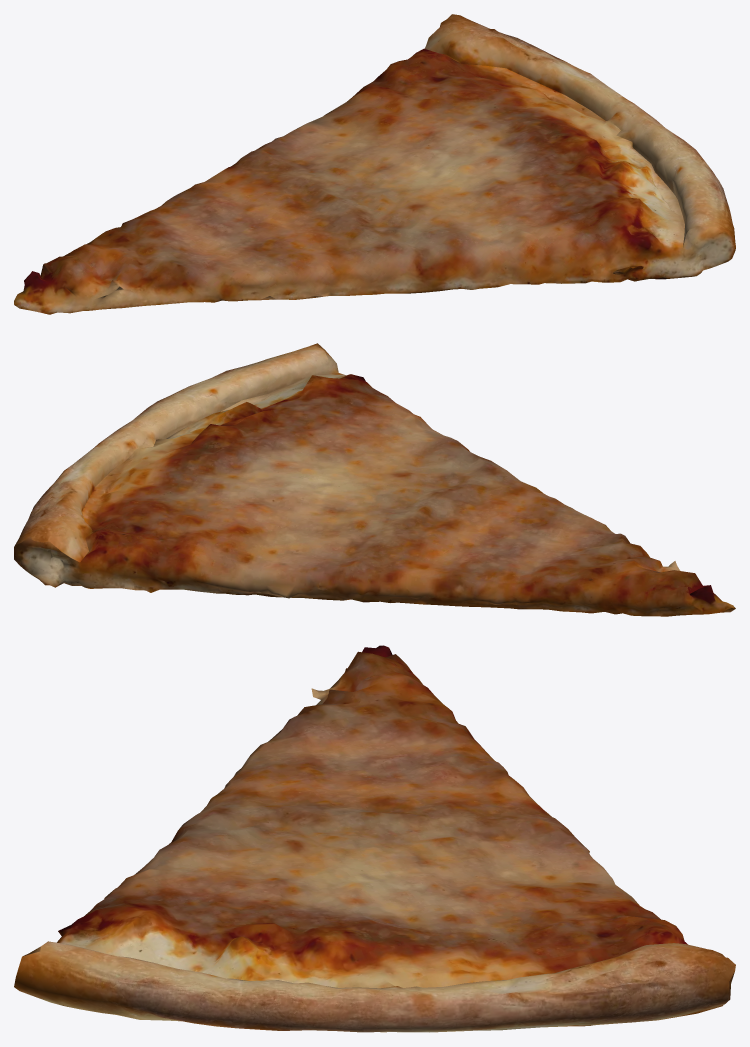
Rendered from pizza_slice.glb.
3 renders of one model, top to bottom at view 1: azimuth 30°, elevation 25°; view 2: azimuth 150°, elevation 25°; view 3: azimuth 270°, elevation 25°, orthographic. The views are drawn at different scales.
Parts seen in each view (by area): view 1: Object_2; view 2: Object_2; view 3: Object_2.
Boxes of the visible parts, x1,y1,x2,y2 form: Object_2: (14,14,735,314); Object_2: (14,343,735,616); Object_2: (14,645,735,1032).
Size of the model in its own units: 0.242 by 0.0208 by 0.1907.
1 material, 1 textured.
